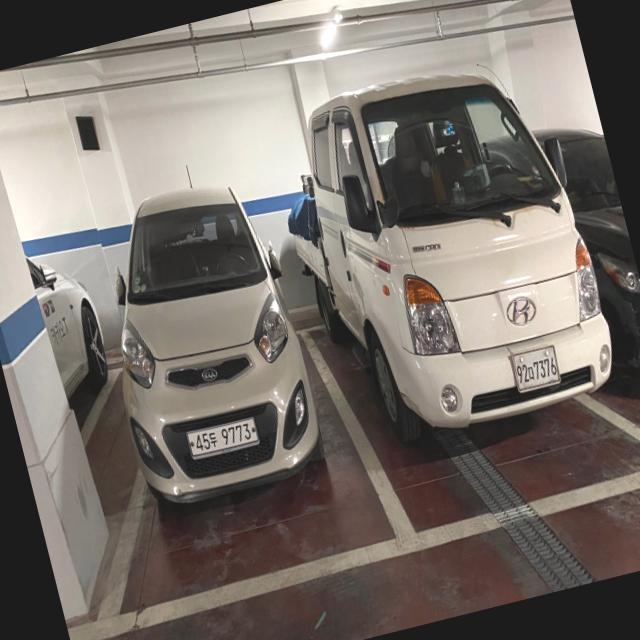car: (284, 39, 629, 462), (74, 166, 342, 528)
